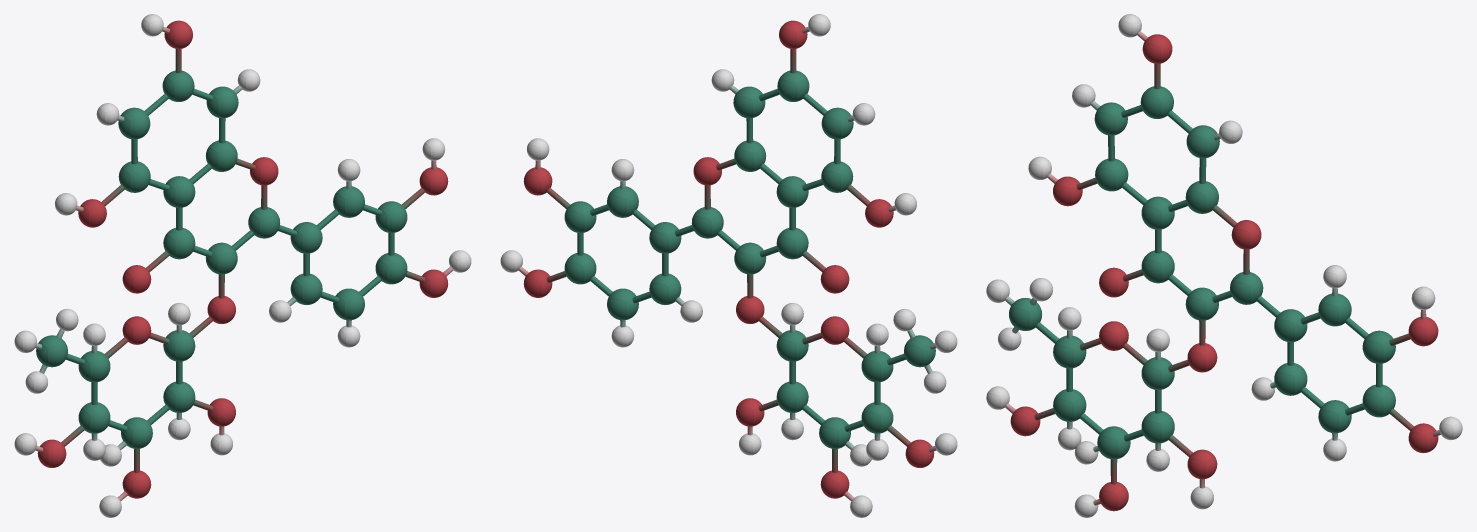
Rendered from Quercitin.fbx.
3 renders of one model, left to right at view 1: azimuth 30°, elevation 25°; view 2: azimuth 150°, elevation 25°; view 3: azimuth 330°, elevation 25°, orthographic. The views are drawn at different scales.
Visible parts, largest first — view 1: curMeshHyperballExportedMesh; view 2: curMeshHyperballExportedMesh; view 3: curMeshHyperballExportedMesh.
Part boxes in pixels (x1,y1,x2,y2): curMeshHyperballExportedMesh: (14,14,471,517); curMeshHyperballExportedMesh: (500,14,957,517); curMeshHyperballExportedMesh: (986,14,1462,517).
Bounding box in the file's own units: 9.27 × 9.59 × 0.5667.
